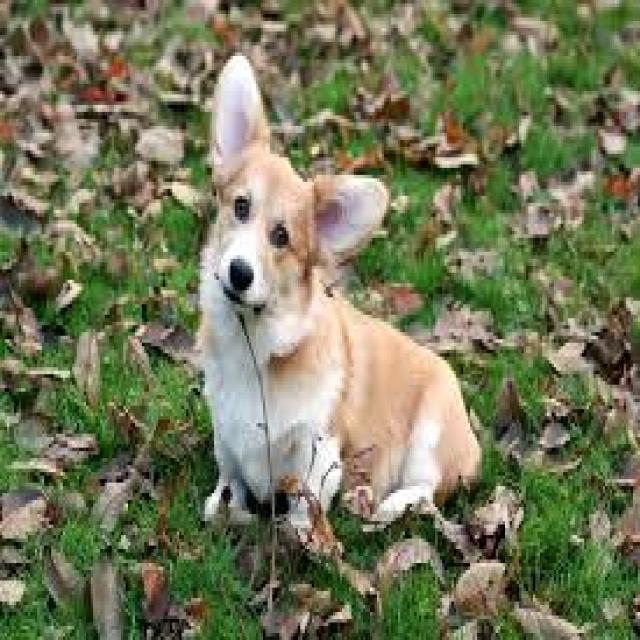CORGI: (206, 47, 485, 543)
